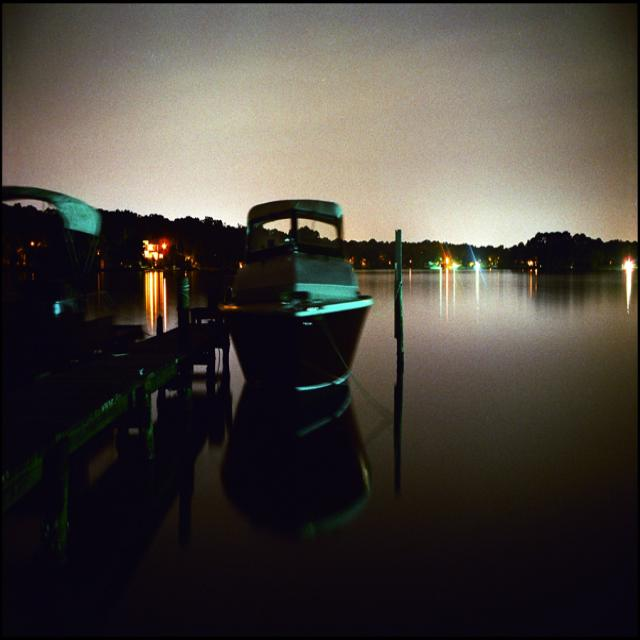Boat: (0, 181, 161, 463), (213, 197, 390, 391)
